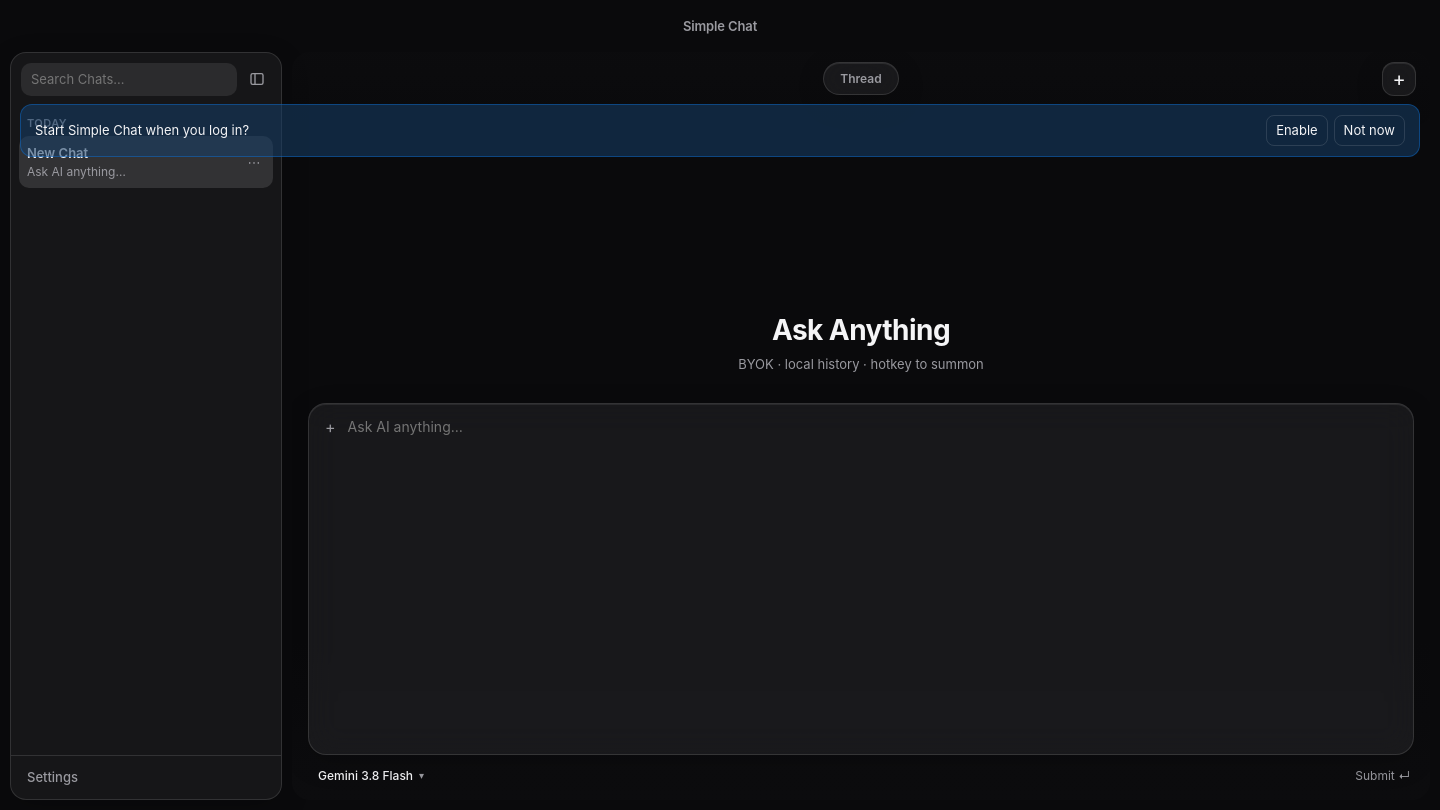
App UX › hides the login-item prompt while Settings is open
Expected: the text "Start Simple Chat when you log in?" is shown, 35,121 -> 249,140
Click the button "Settings". click: (52, 777)
box: 11,755 -> 281,799
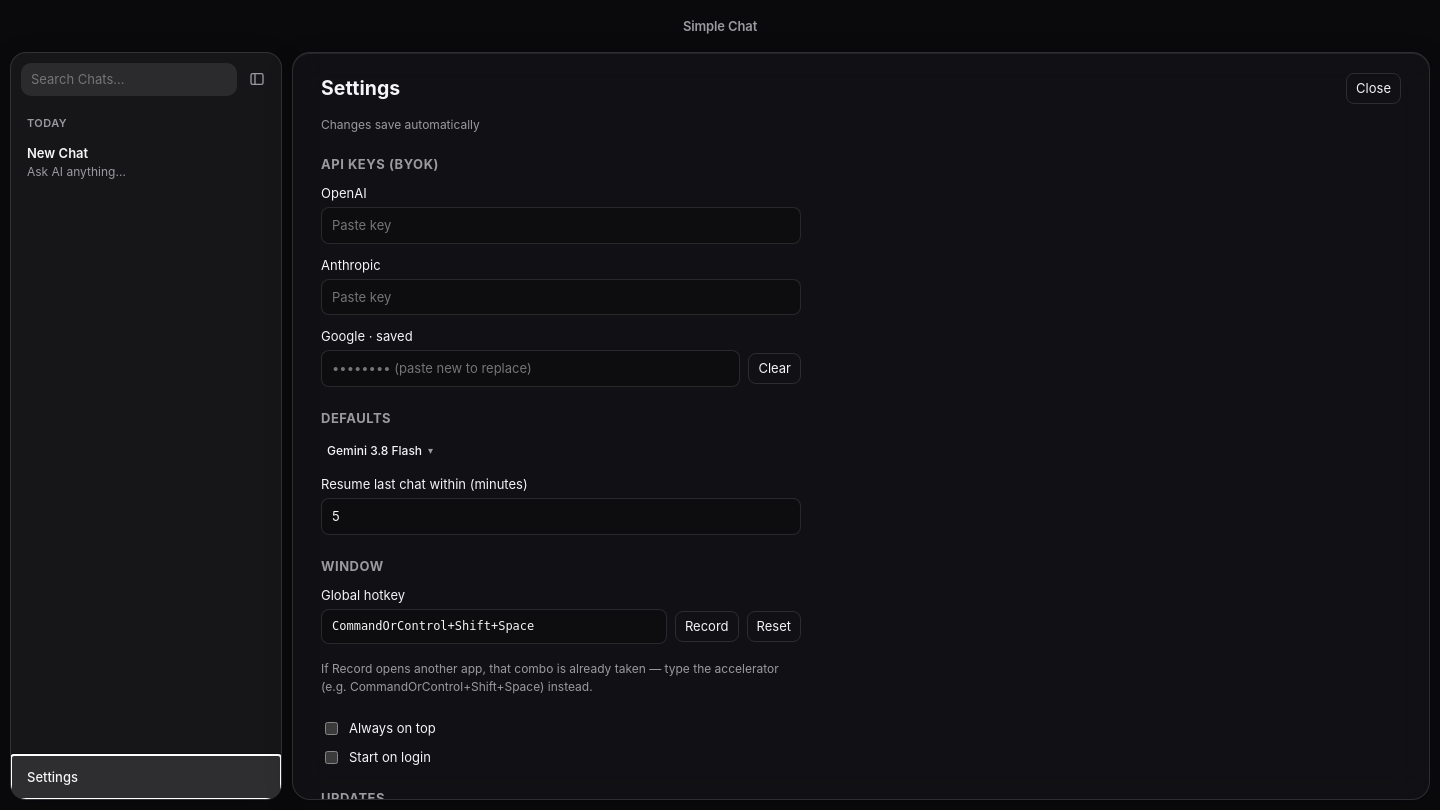
Expected: the heading "Settings" is shown, 321,74 -> 400,103
Expected: the text "Start Simple Chat when you log in?" is gone
Click the button "Close". click: (1374, 88)
box: 1346,73 -> 1401,104
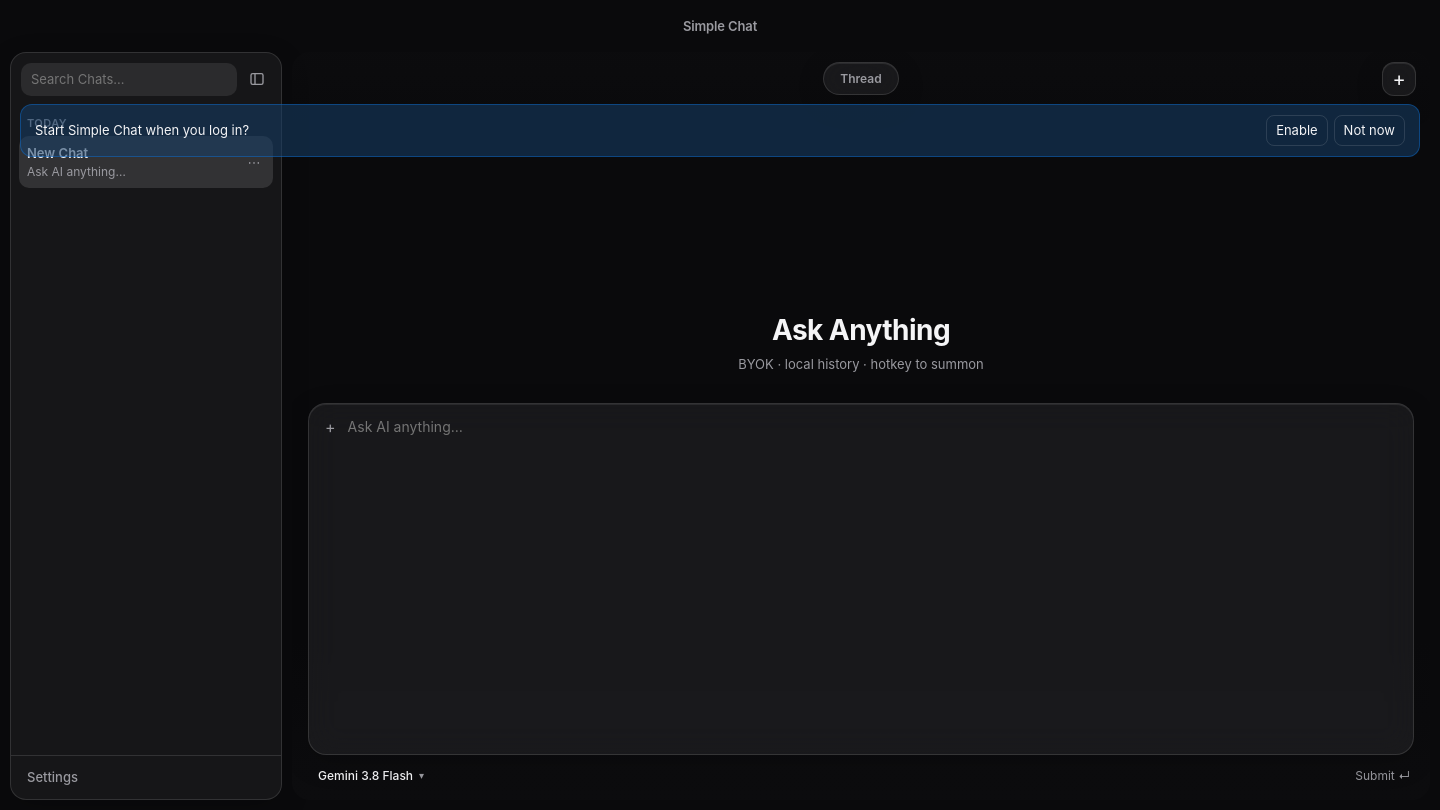
Expected: the text "Start Simple Chat when you log in?" is shown, 35,121 -> 249,140
